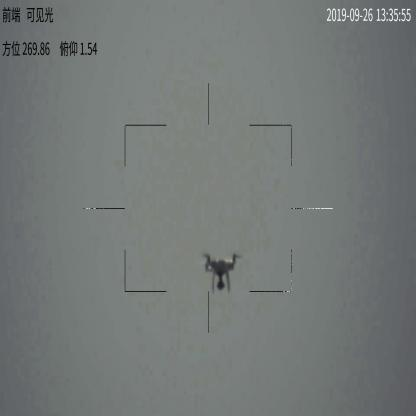uav: (200, 252, 244, 292)
